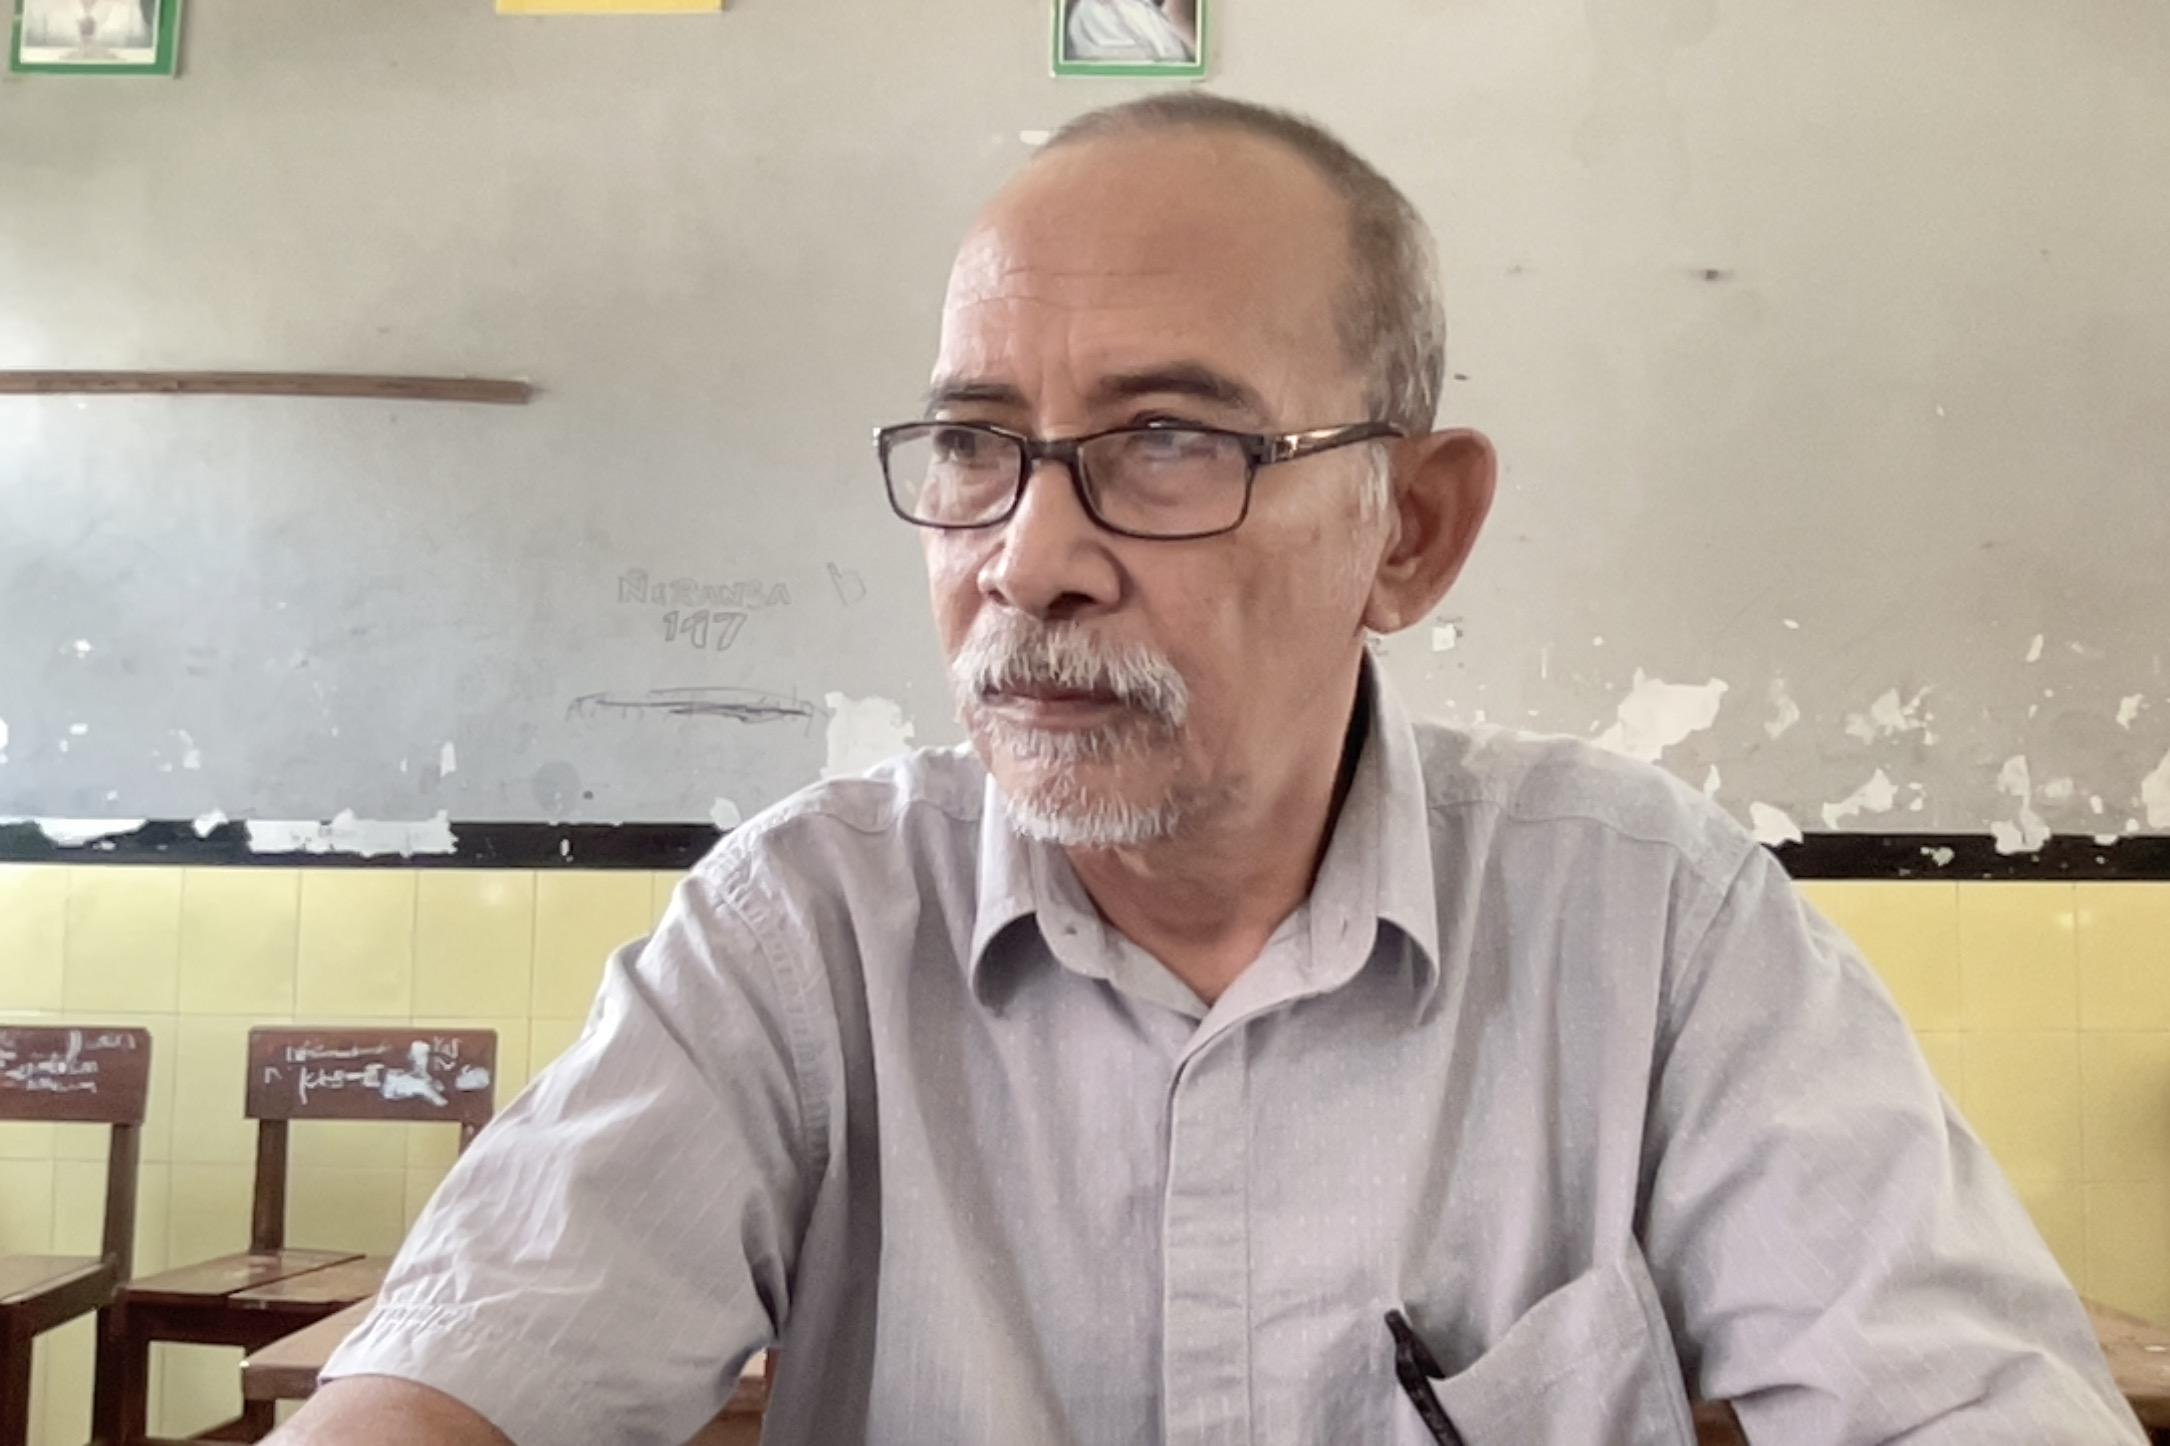cheating: (847, 44, 1600, 1046)
